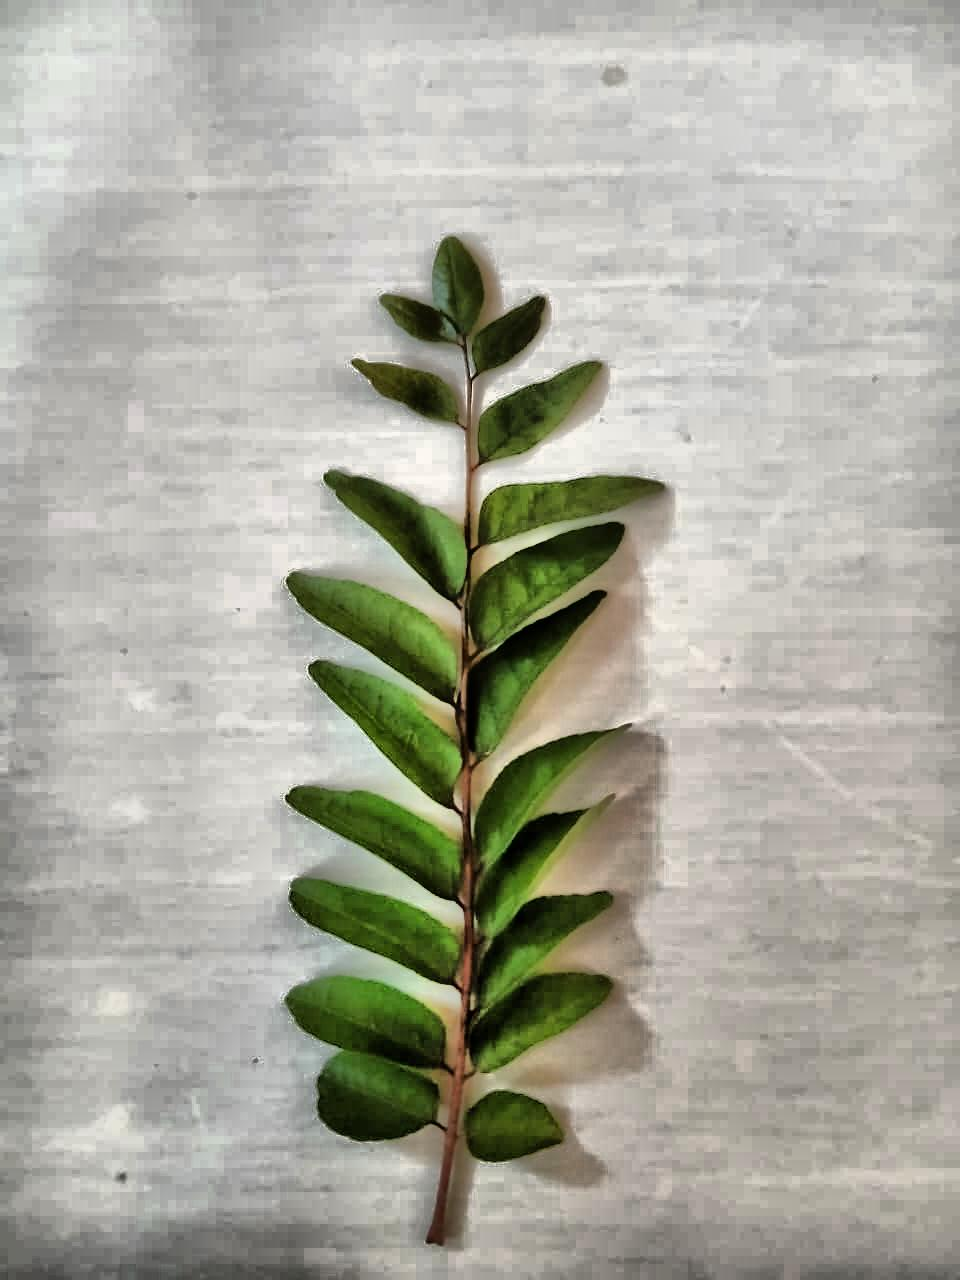daun kari: (244, 177, 689, 1272)
